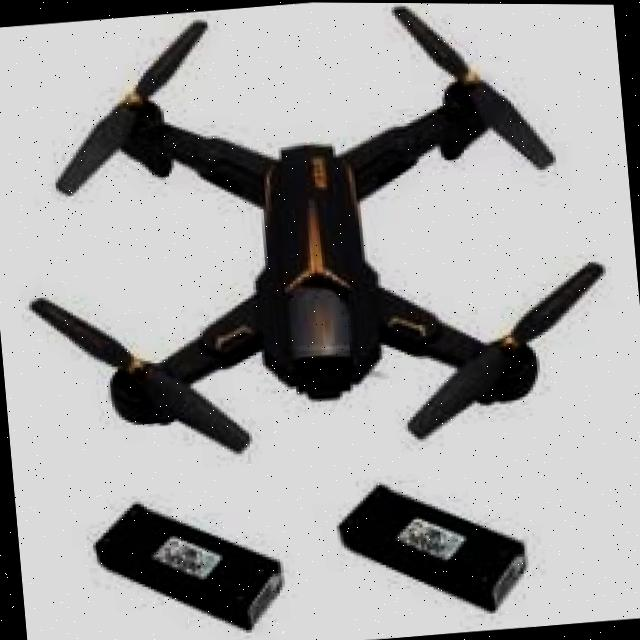drone: (2, 0, 619, 491)
